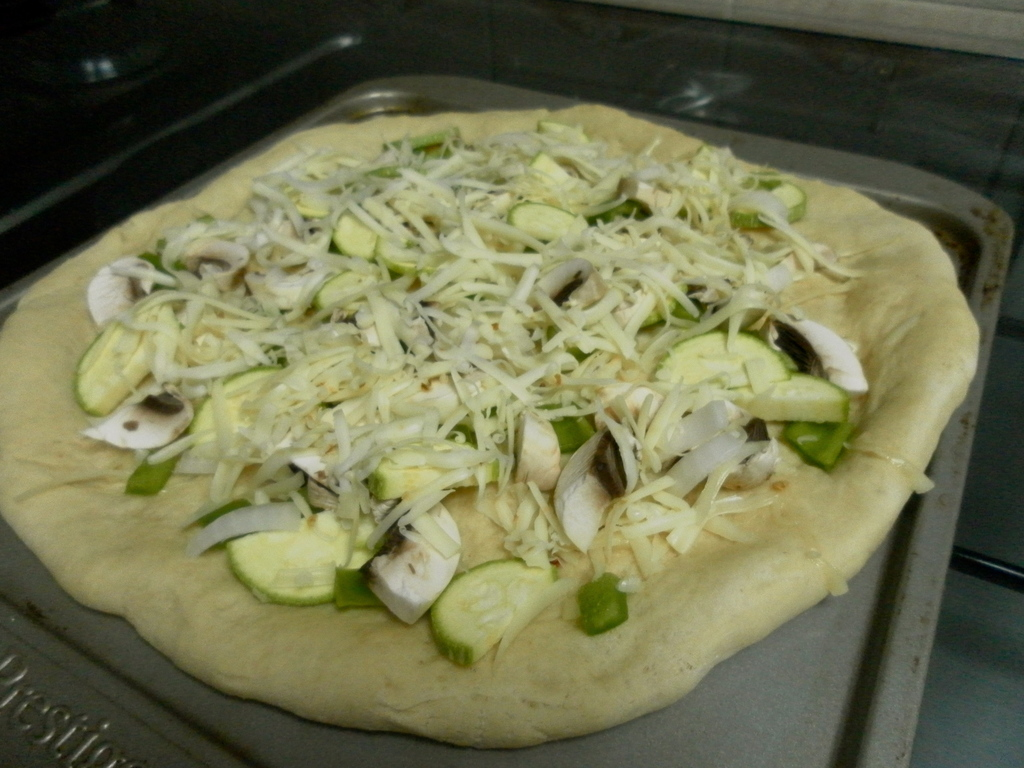Pizza: (0, 101, 984, 746)
